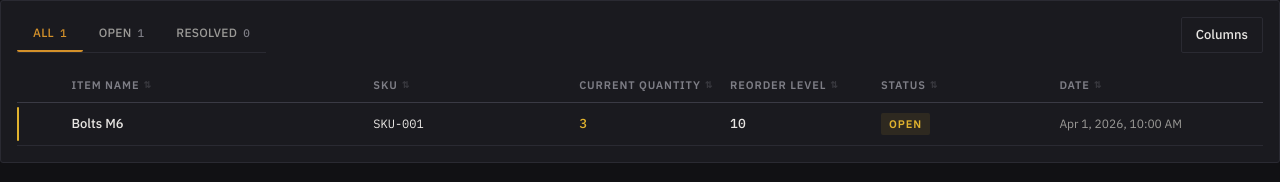
it: AlertsPanel › shows empty state when filtered tab has no matching alerts
The image size is (1280, 182).
Click the button with class "filter-tab" showing "Resolved 0" at [213, 34], box [160,17,266,52]
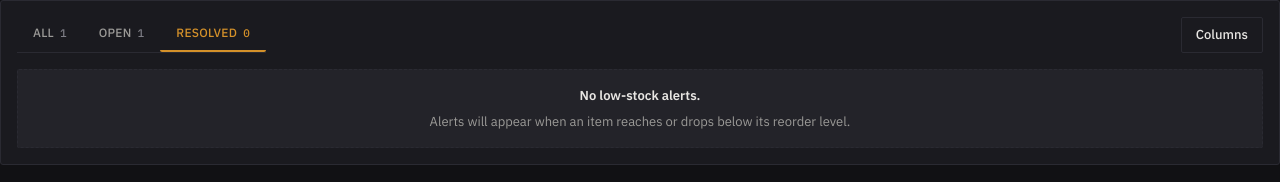
Result: the heading "No low-stock alerts." is shown at [580,87,700,104]
